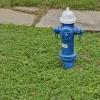a fire hydrant: (55, 8, 83, 70)
